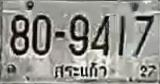0: (31, 14, 50, 54)
1: (118, 15, 124, 55)
4: (90, 14, 109, 55)
7: (133, 15, 153, 56)
8: (10, 14, 28, 54)
9: (68, 14, 88, 55)
SKW: (51, 60, 111, 81)
